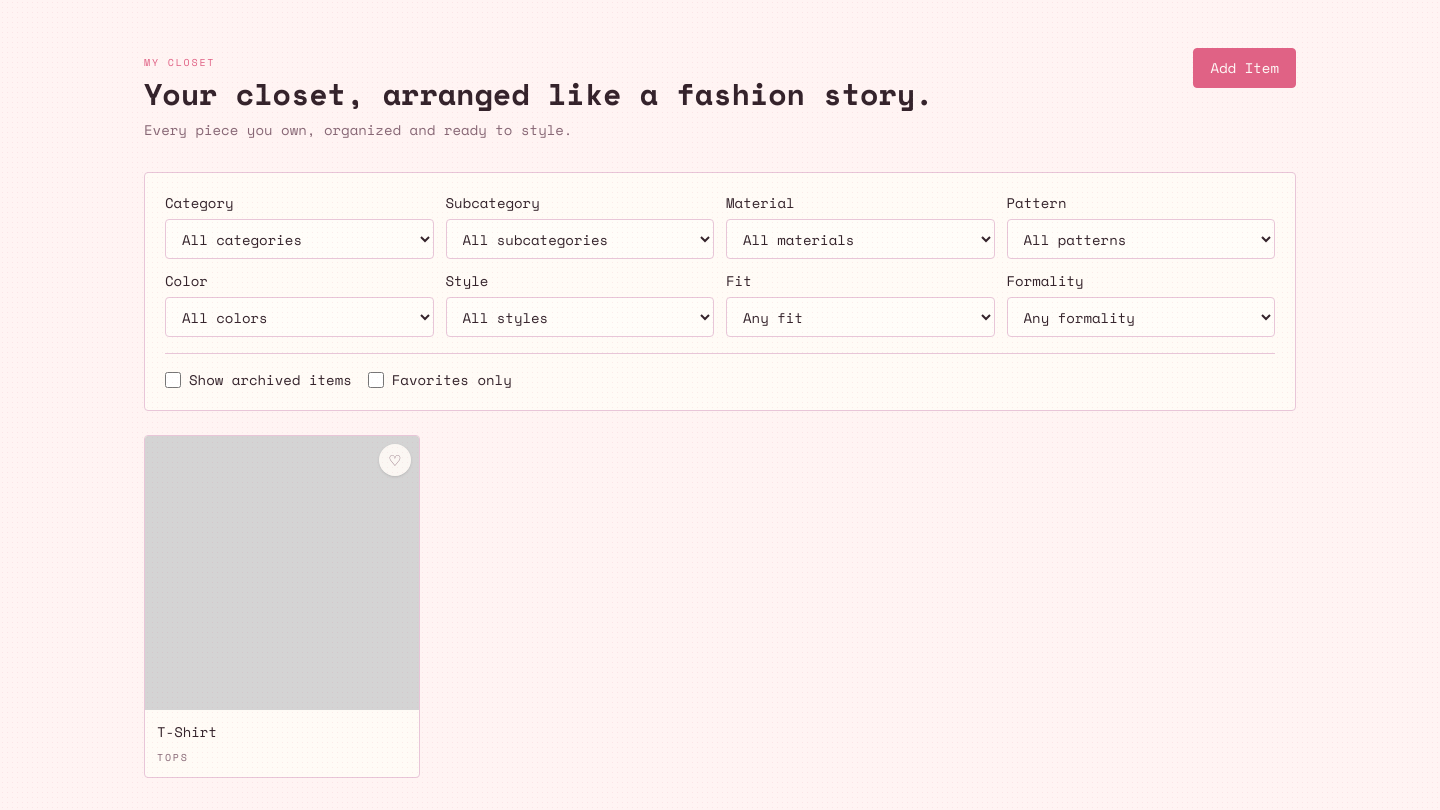
it: ClosetPage › toggles an item favorite state from the grid and refetches
The width and height of the screenshot is (1440, 810).
Click the button named "Add to favorites" at (395, 460), box [379,444,411,476]
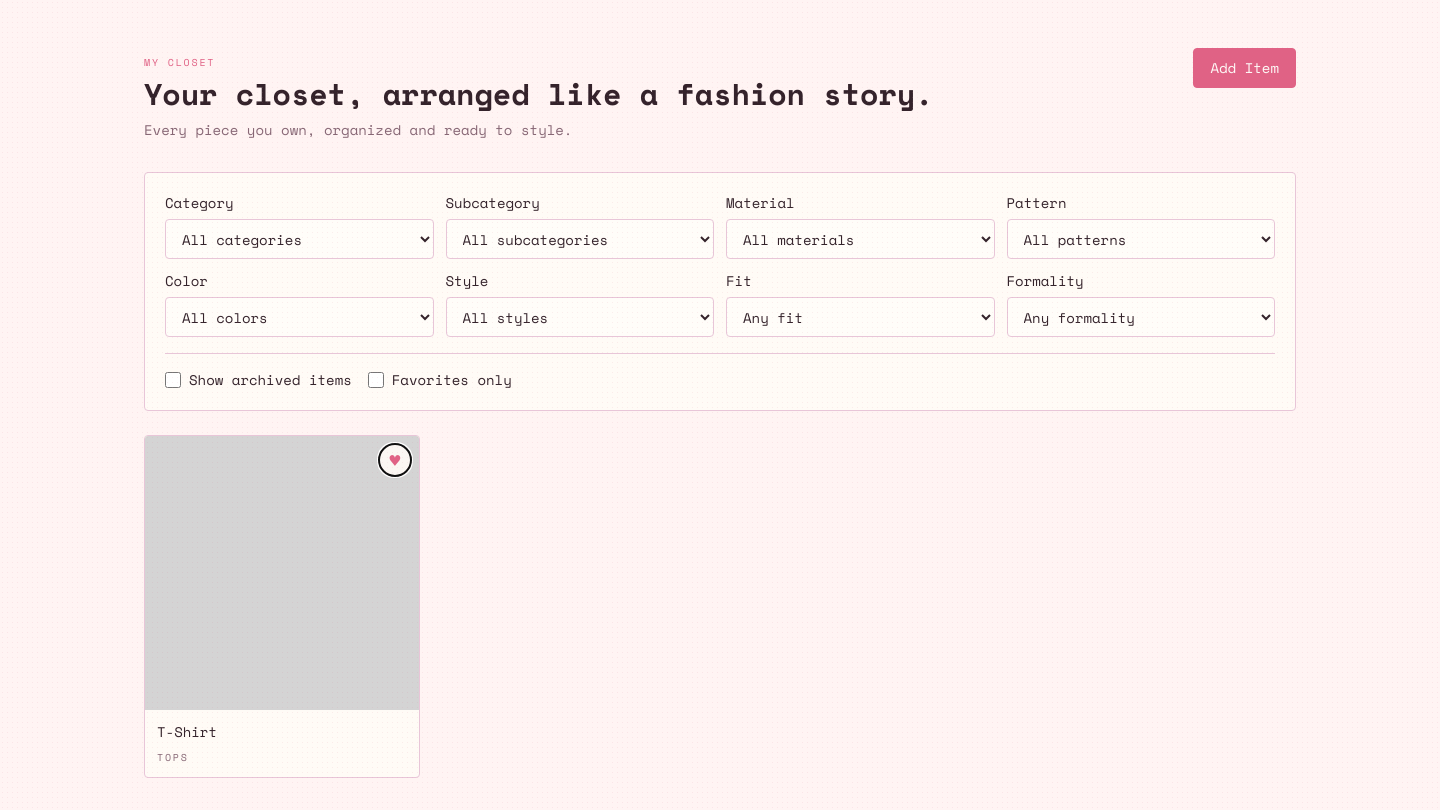
Check: the button named "Remove from favorites" is shown, box [379,444,411,476]
